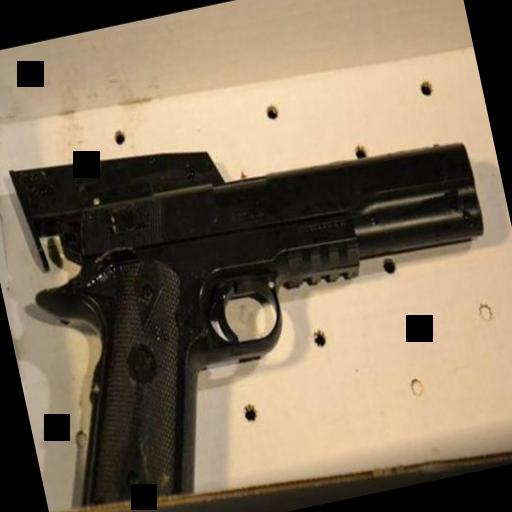Handgun: (14, 132, 512, 509)
